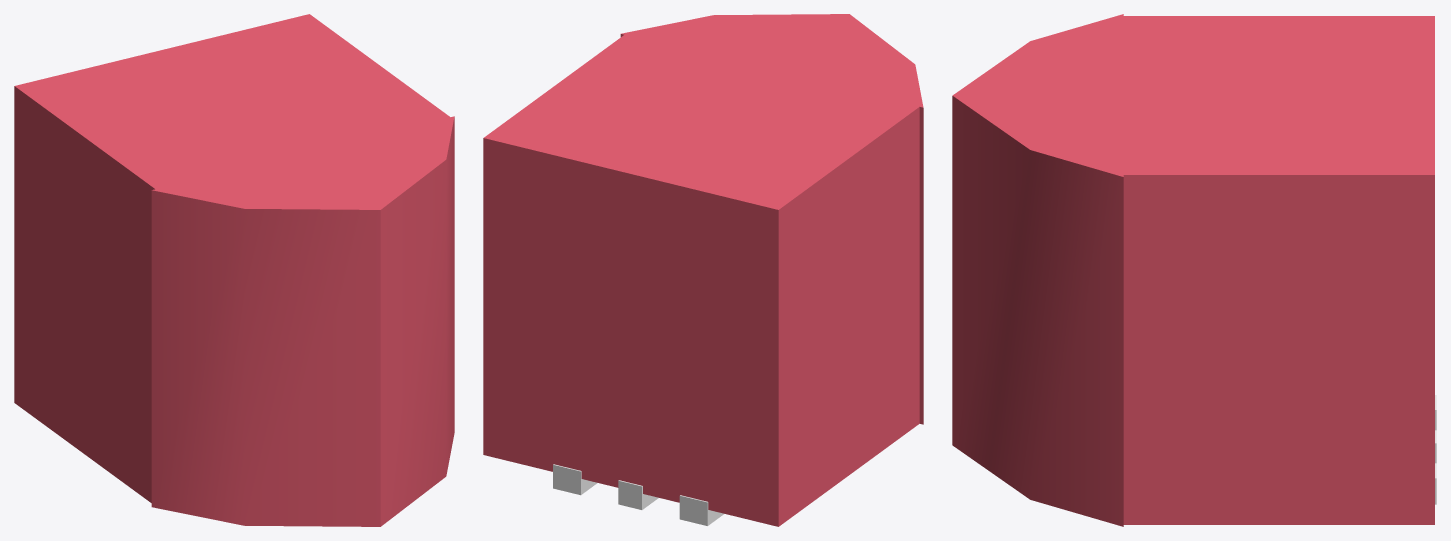
3 views of the same model, side by side, from view 1: azimuth 30°, elevation 25°; view 2: azimuth 150°, elevation 25°; view 3: azimuth 270°, elevation 25° (orthographic). The views are drawn at different scales.
Visible parts, largest first — view 1: Geode; view 2: Geode; view 3: Geode.
Boxes of the visible parts, <box> form: Geode: <box>14,14,454,526</box>; Geode: <box>483,14,923,526</box>; Geode: <box>952,14,1436,526</box>.
Bounding box in the file's own units: 40 × 42 × 50.17.
